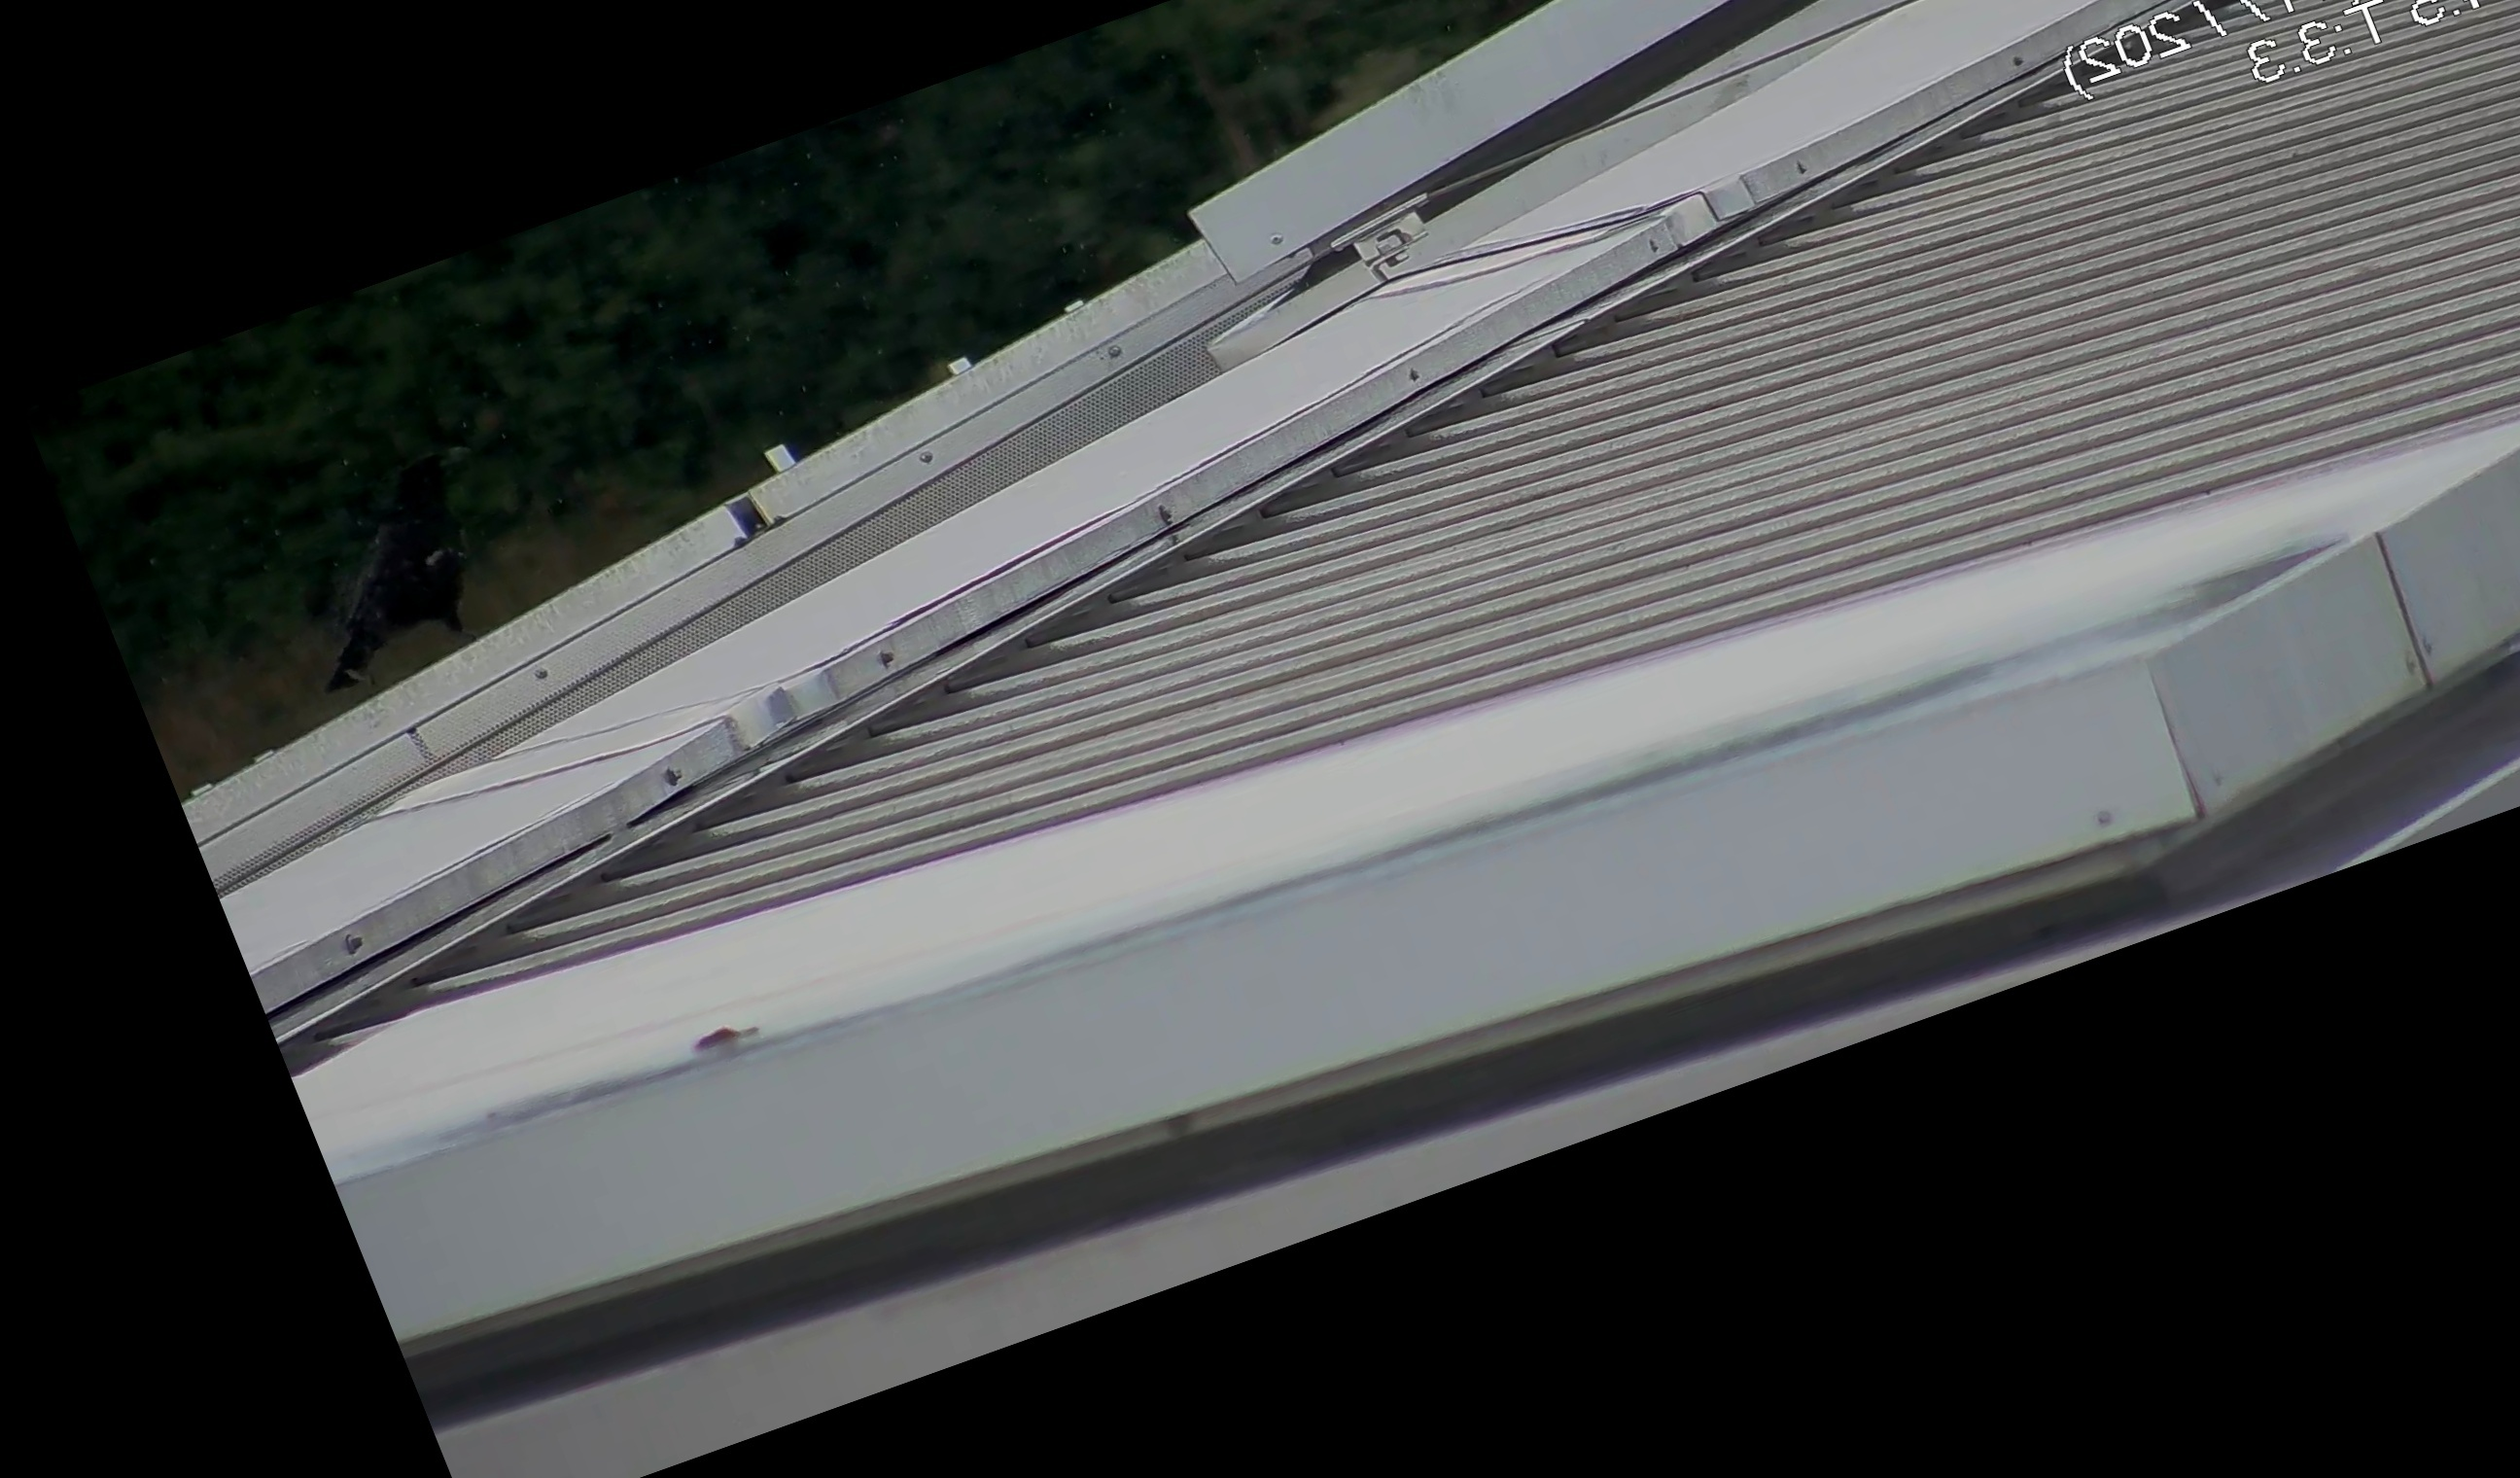Other: (237, 442, 528, 707)
